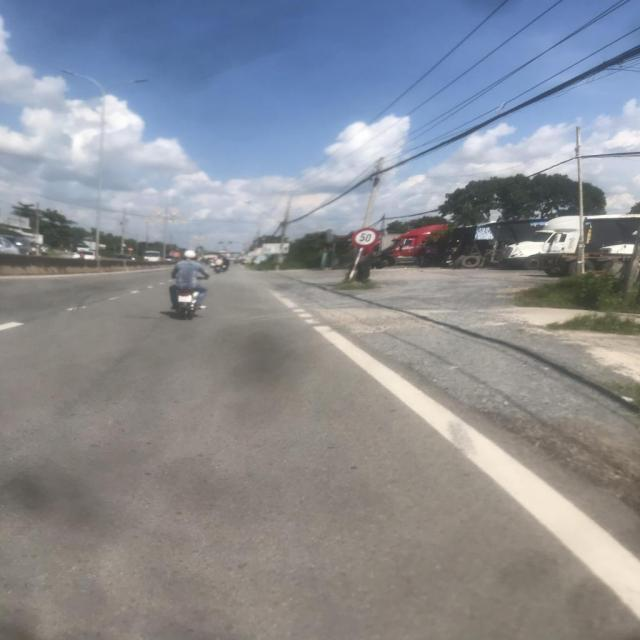127-toc-do-toi-da-50: (353, 228, 379, 248)
